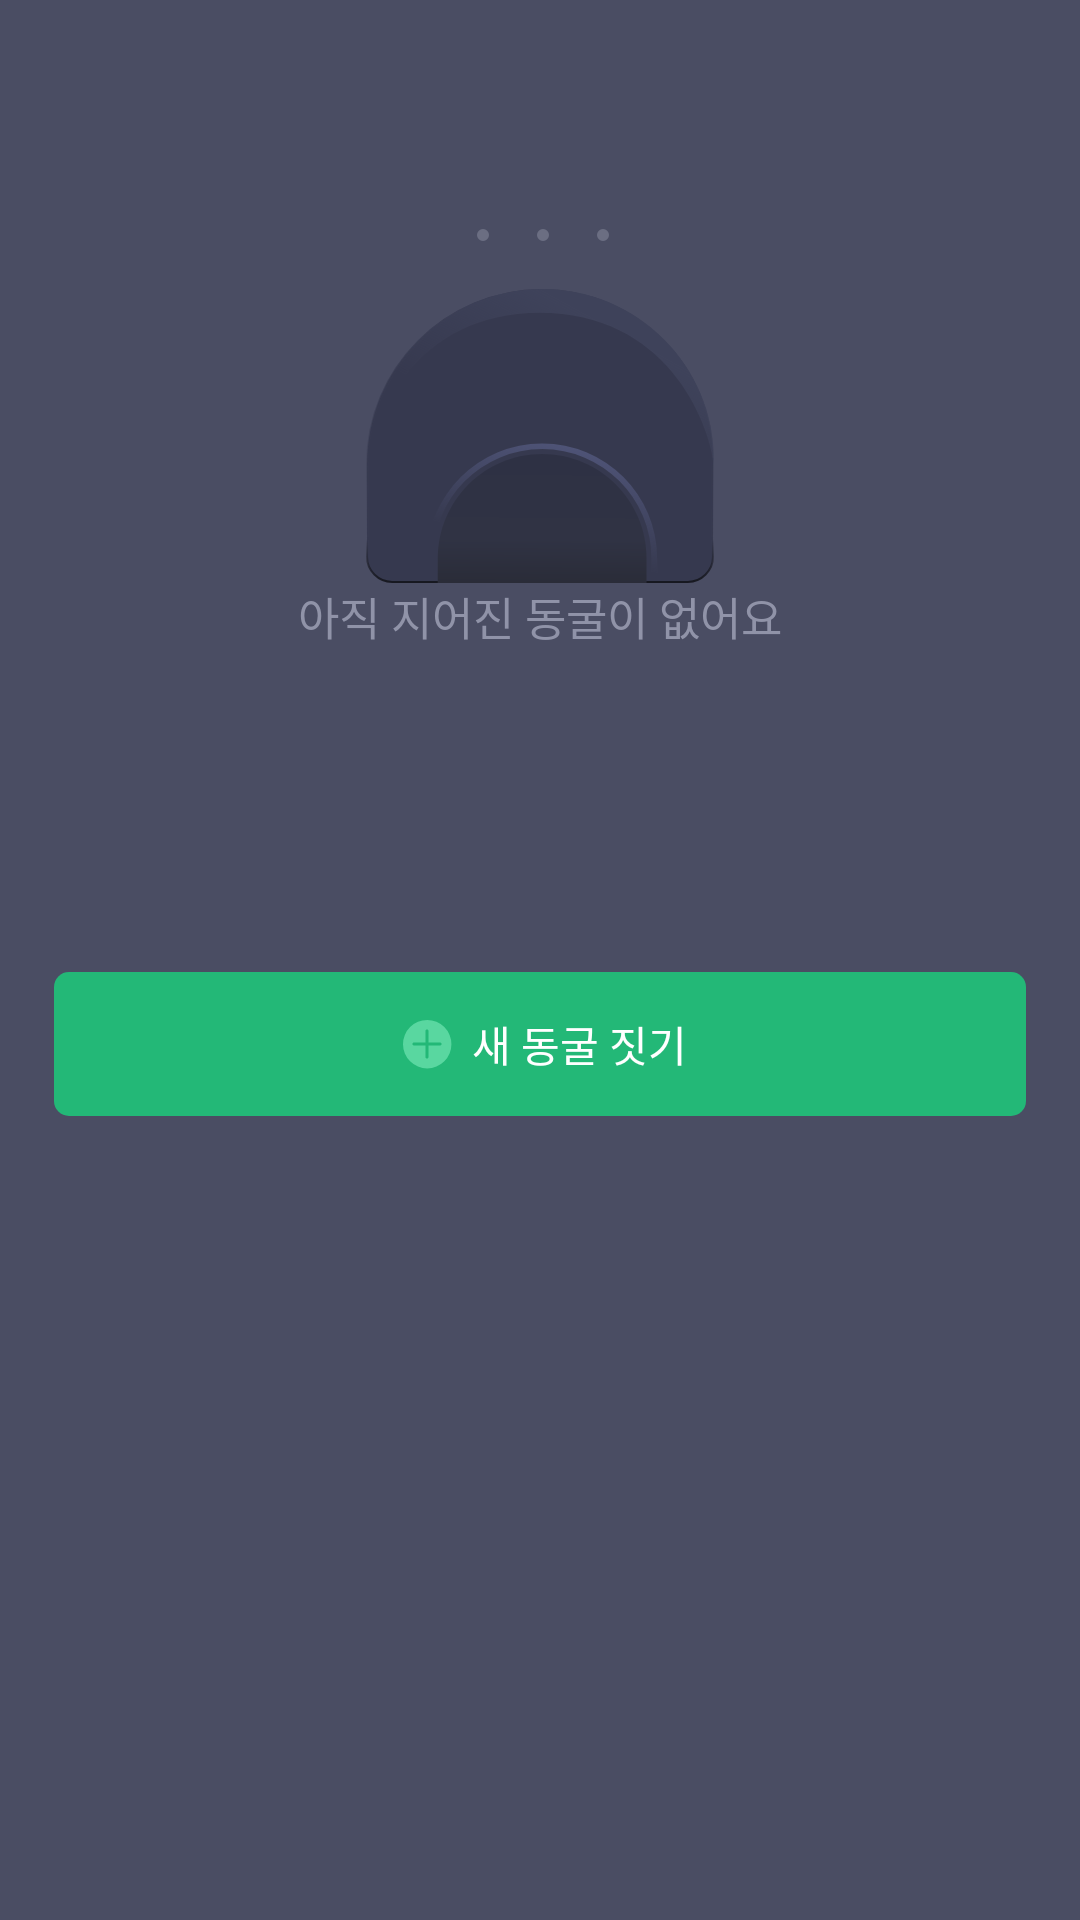

Icons on this 1080w x 1920h Android screen, each with the point to tap as (x=x, y=y):
circle plus: (x=427, y=1044)
